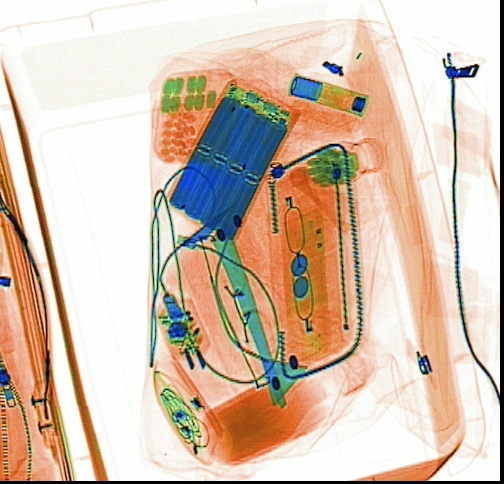powerbank: (163, 75, 304, 245)
